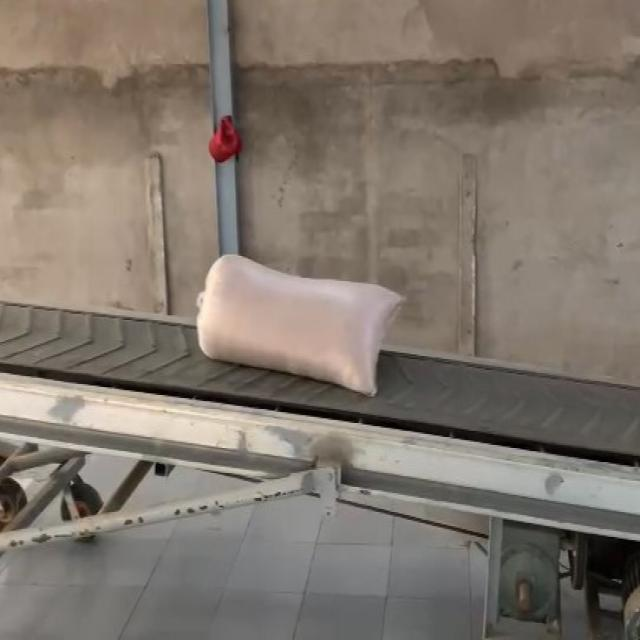gunny_bag: (198, 254, 403, 396)
